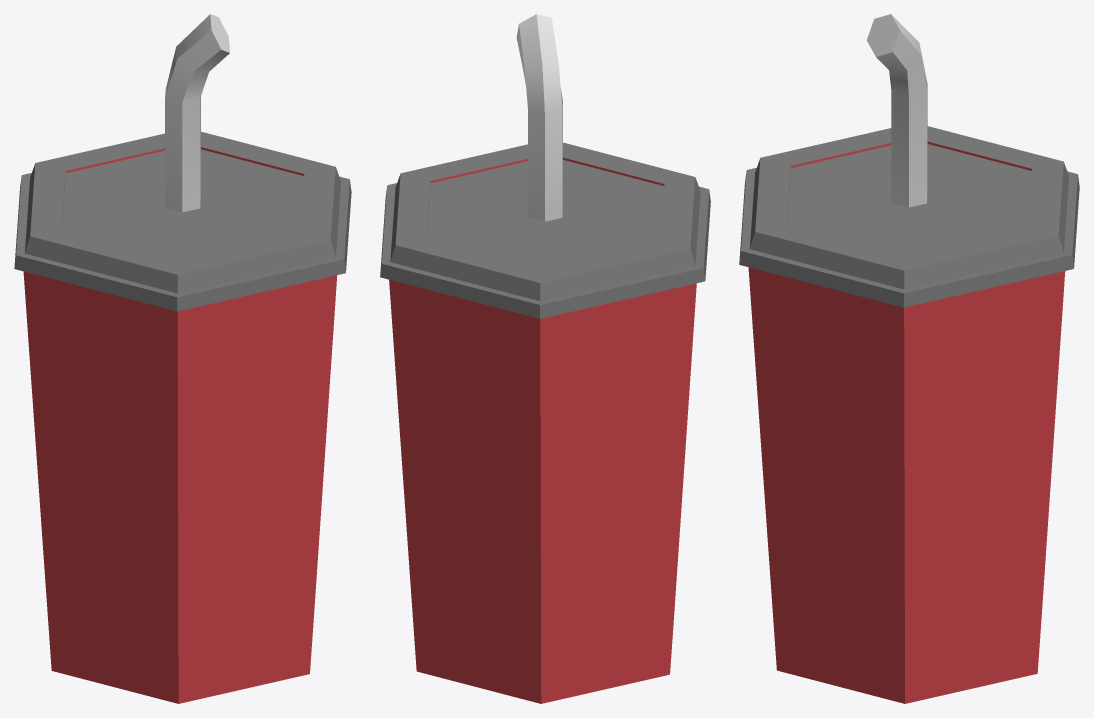
Rendered from drink_done.fbx.
3 views of the same model, side by side, from view 1: azimuth 30°, elevation 25°; view 2: azimuth 150°, elevation 25°; view 3: azimuth 270°, elevation 25° (orthographic). The views are drawn at different scales.
Visible parts, largest first — view 1: drink_done; view 2: drink_done; view 3: drink_done.
Boxes of the visible parts, x1=… form: drink_done: x1=14, y1=14, x2=351, y2=703; drink_done: x1=380, y1=14, x2=710, y2=703; drink_done: x1=739, y1=14, x2=1079, y2=703.
Bounding box in the file's own units: 11.46 × 20.77 × 10.09.
